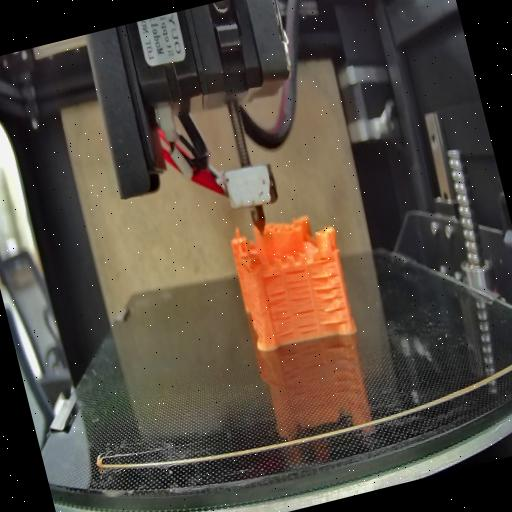cracks: (282, 267, 320, 337), (308, 270, 352, 330), (264, 288, 296, 342), (262, 271, 282, 280)
